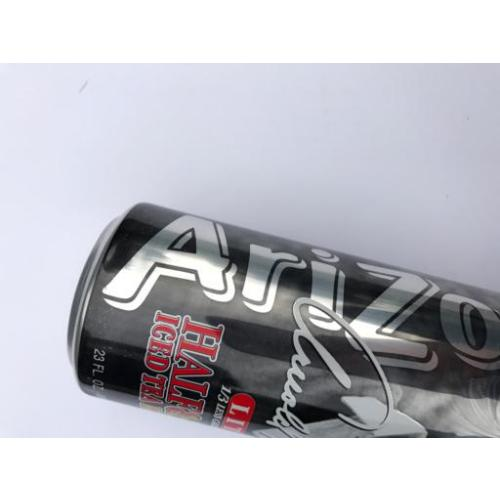metal: (67, 201, 499, 438)
